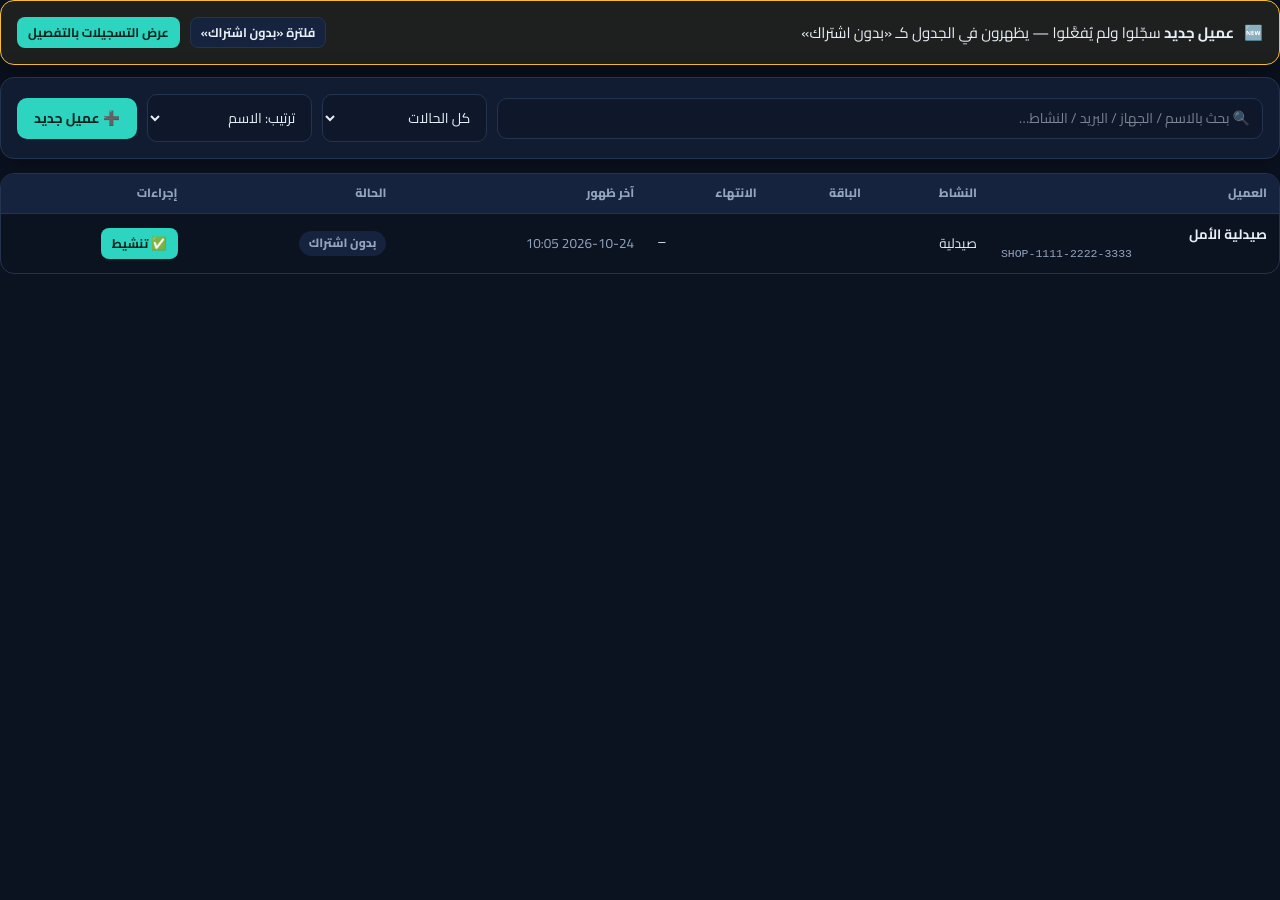
RegistrationsPage — سير العمل الكامل › CustomersPage يعرض العميل المسجّل بلا رخصة (status=none) دون باقة وهمية «تجريبي» ولا يطلب readCloudFlags عبثاً
The image size is (1280, 900).
// النقر على اسم العميل لفتح بطاقة التفاصيل
Click the text "صيدلية الأمل" at (1228, 234), box [1189,221,1267,247]
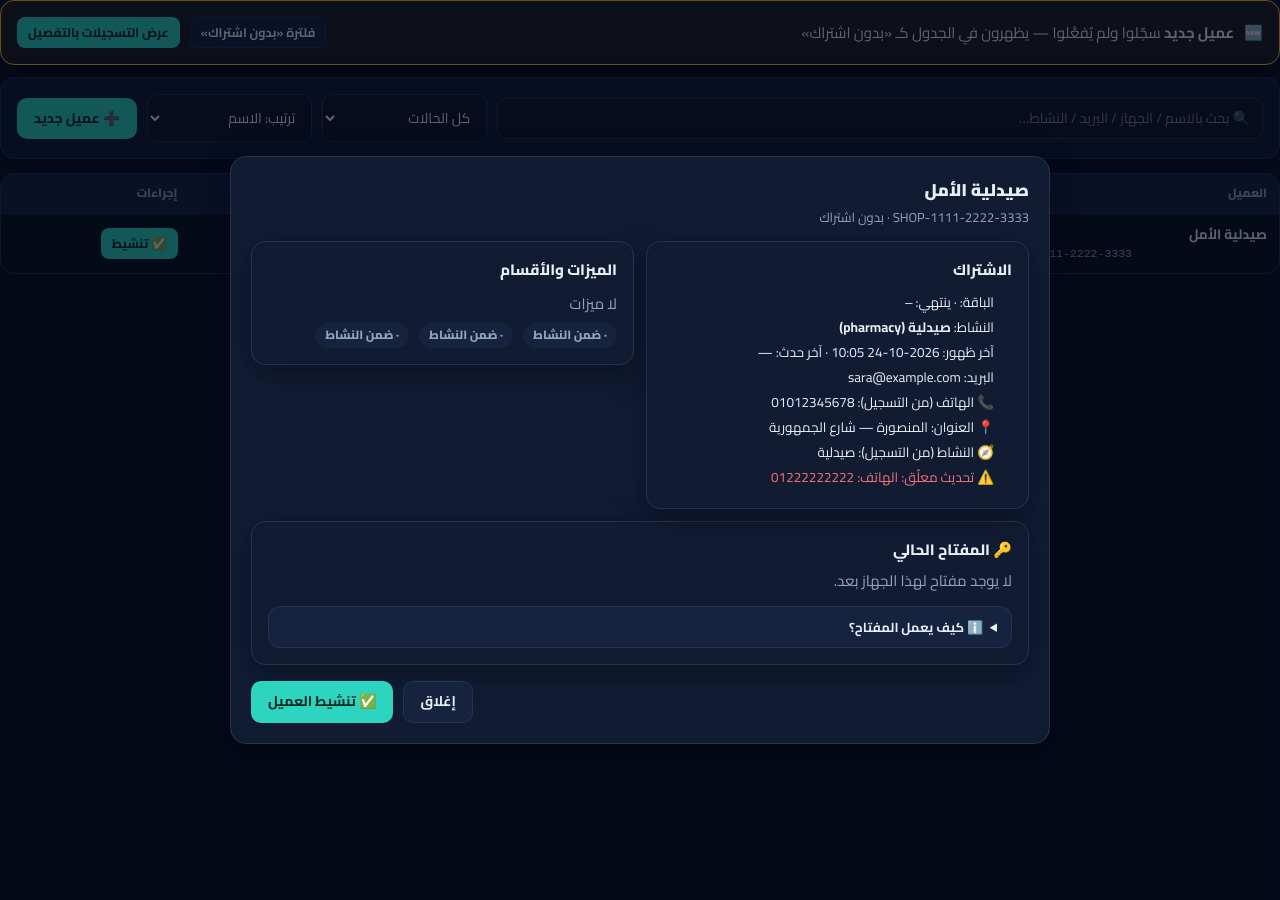
Check: the list item "📞 الهاتف (من التسجيل): 01012345678" is shown, box [771,389,994,415]
